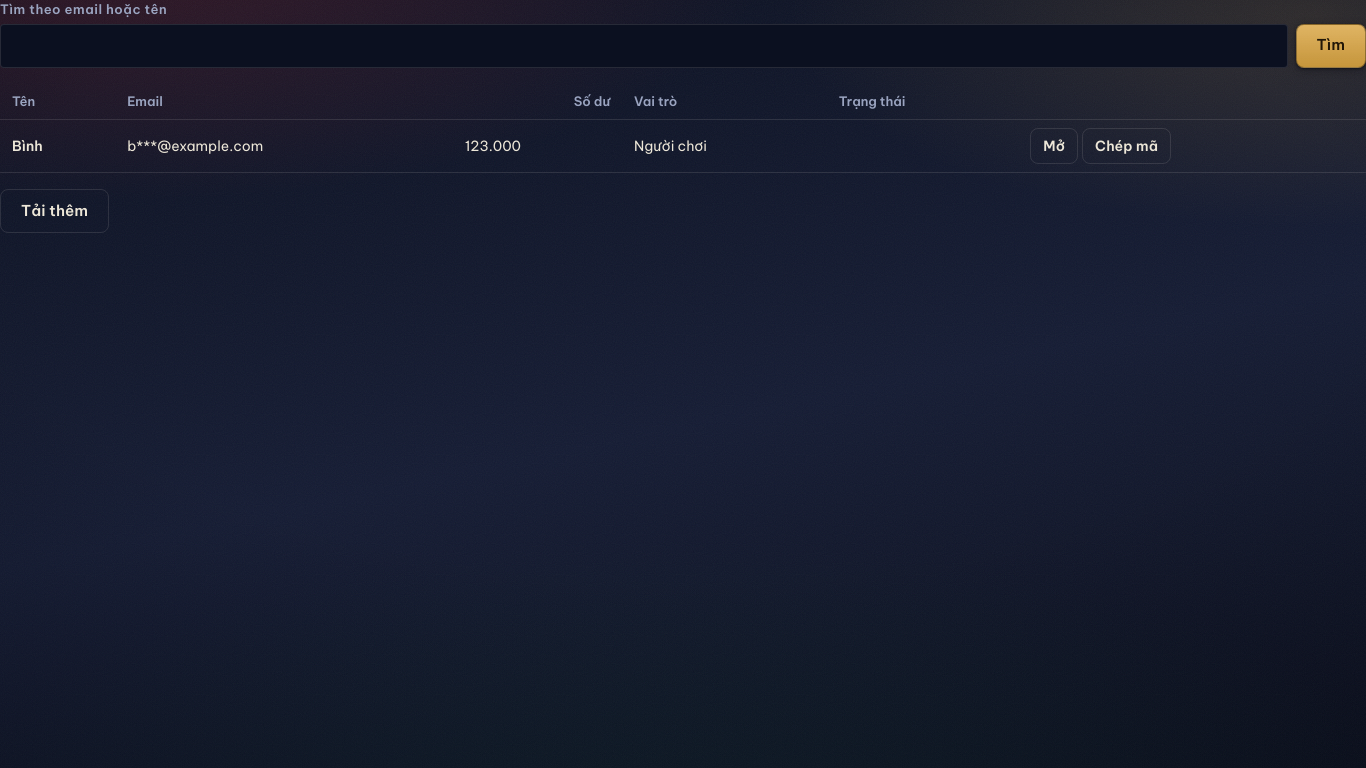
PlayersTab › pages on the cursor of the last search and appends
Expected: the text "b***@example.com" is shown, [115,120,453,172]
Type "e" into the search field labelled "Tìm theo email hoặc tên".
click(644, 46); type("e")  # box [0,24,1288,68]
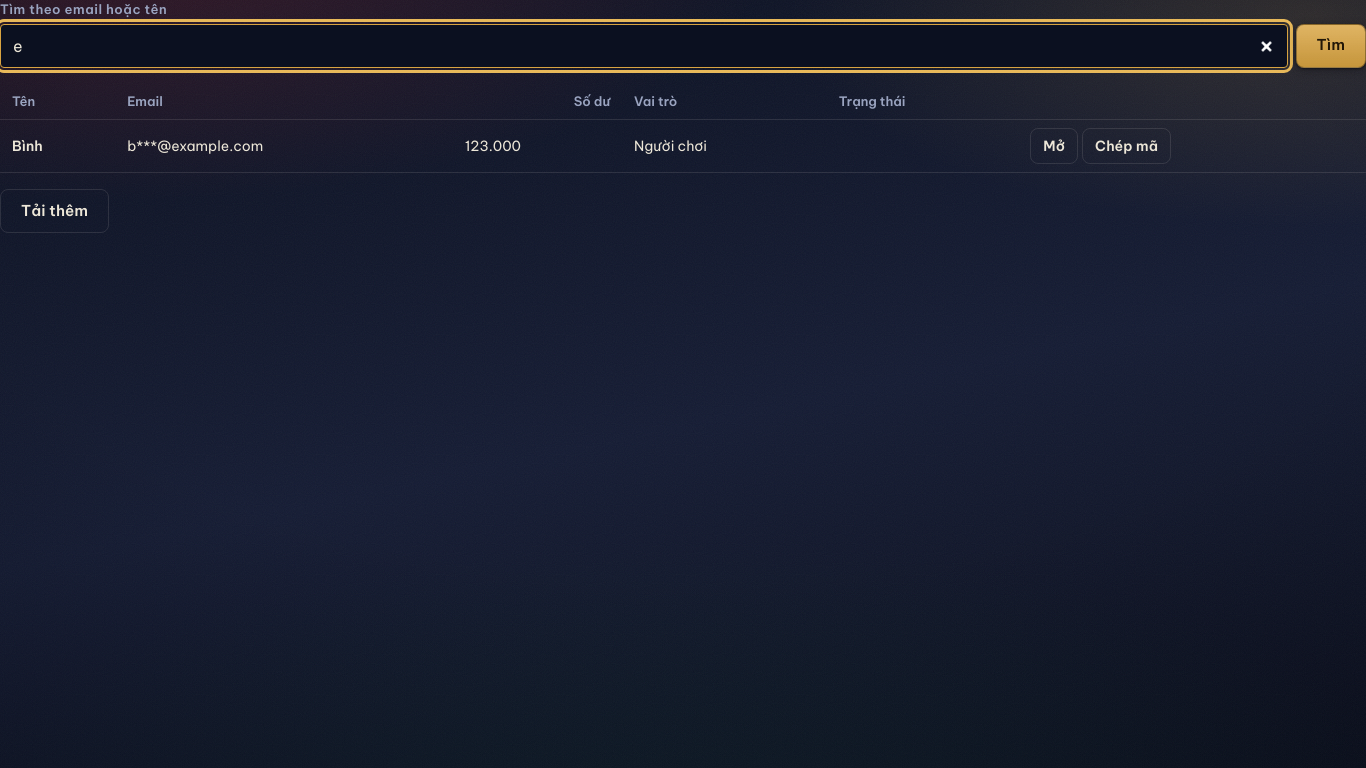
Click the button "Tìm".
click(1331, 46)  # box [1296,24,1365,68]
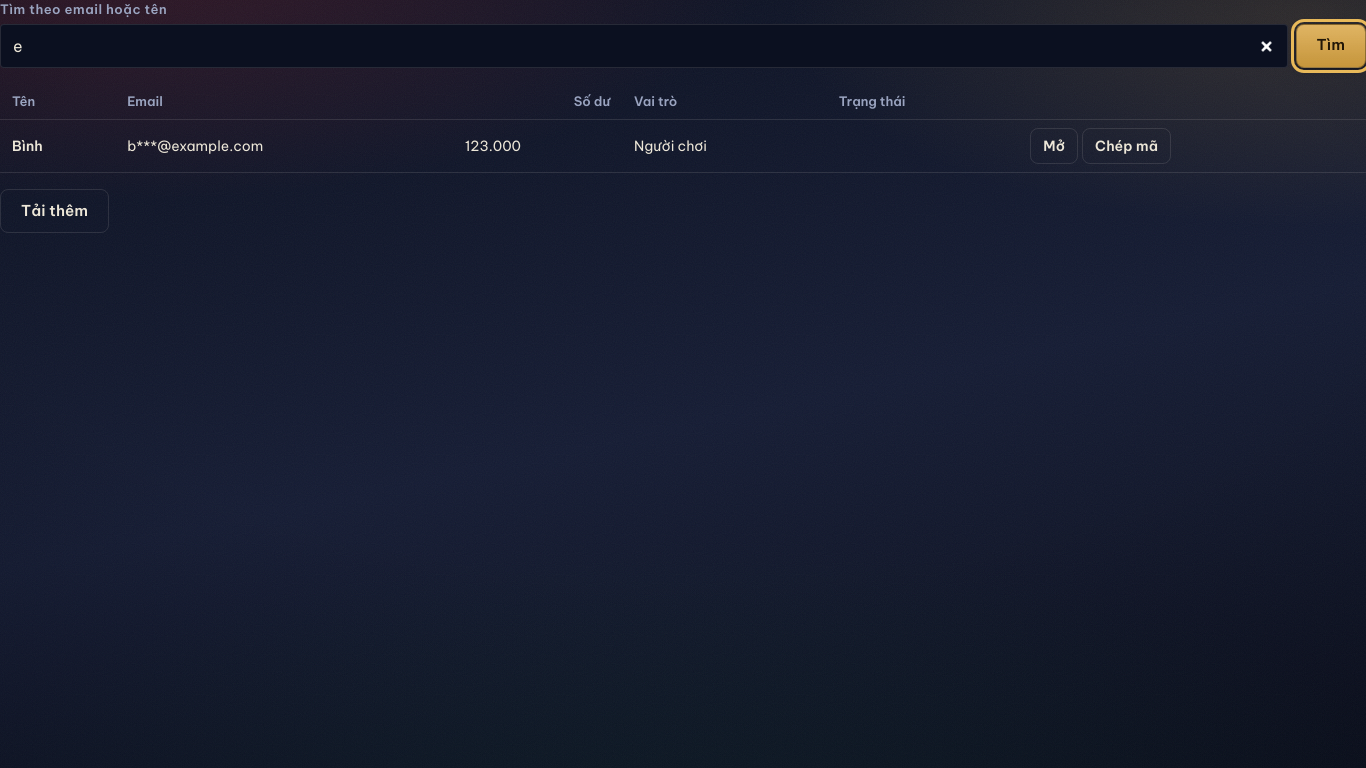
Expected: the text "b***@example.com" is shown, [115,120,453,172]
Click the button "Tải thêm".
click(54, 211)  # box [0,189,109,233]
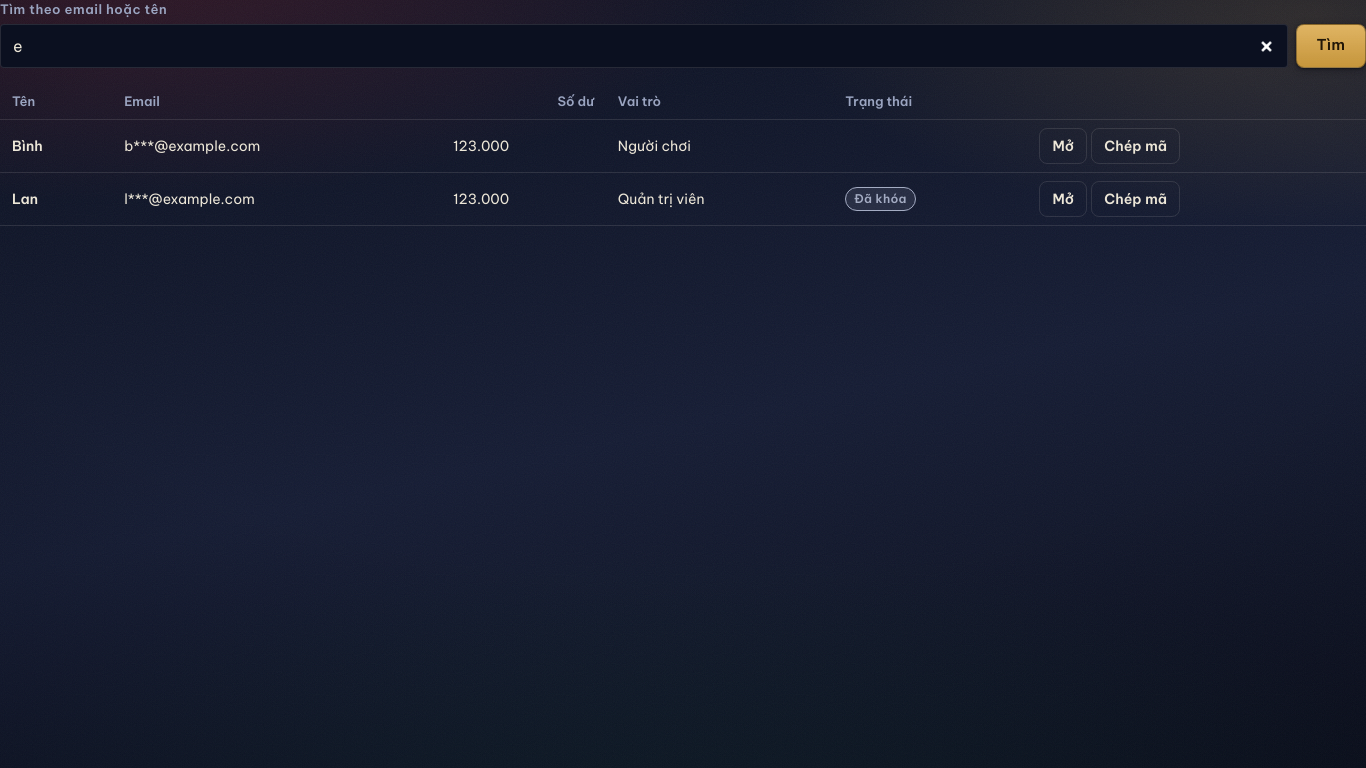
Expected: the text "b***@example.com" is shown, [112,120,441,172]
Now the text "l***@example.com" is shown, box [112,172,441,226]
Now the button "Tải thêm" is gone
